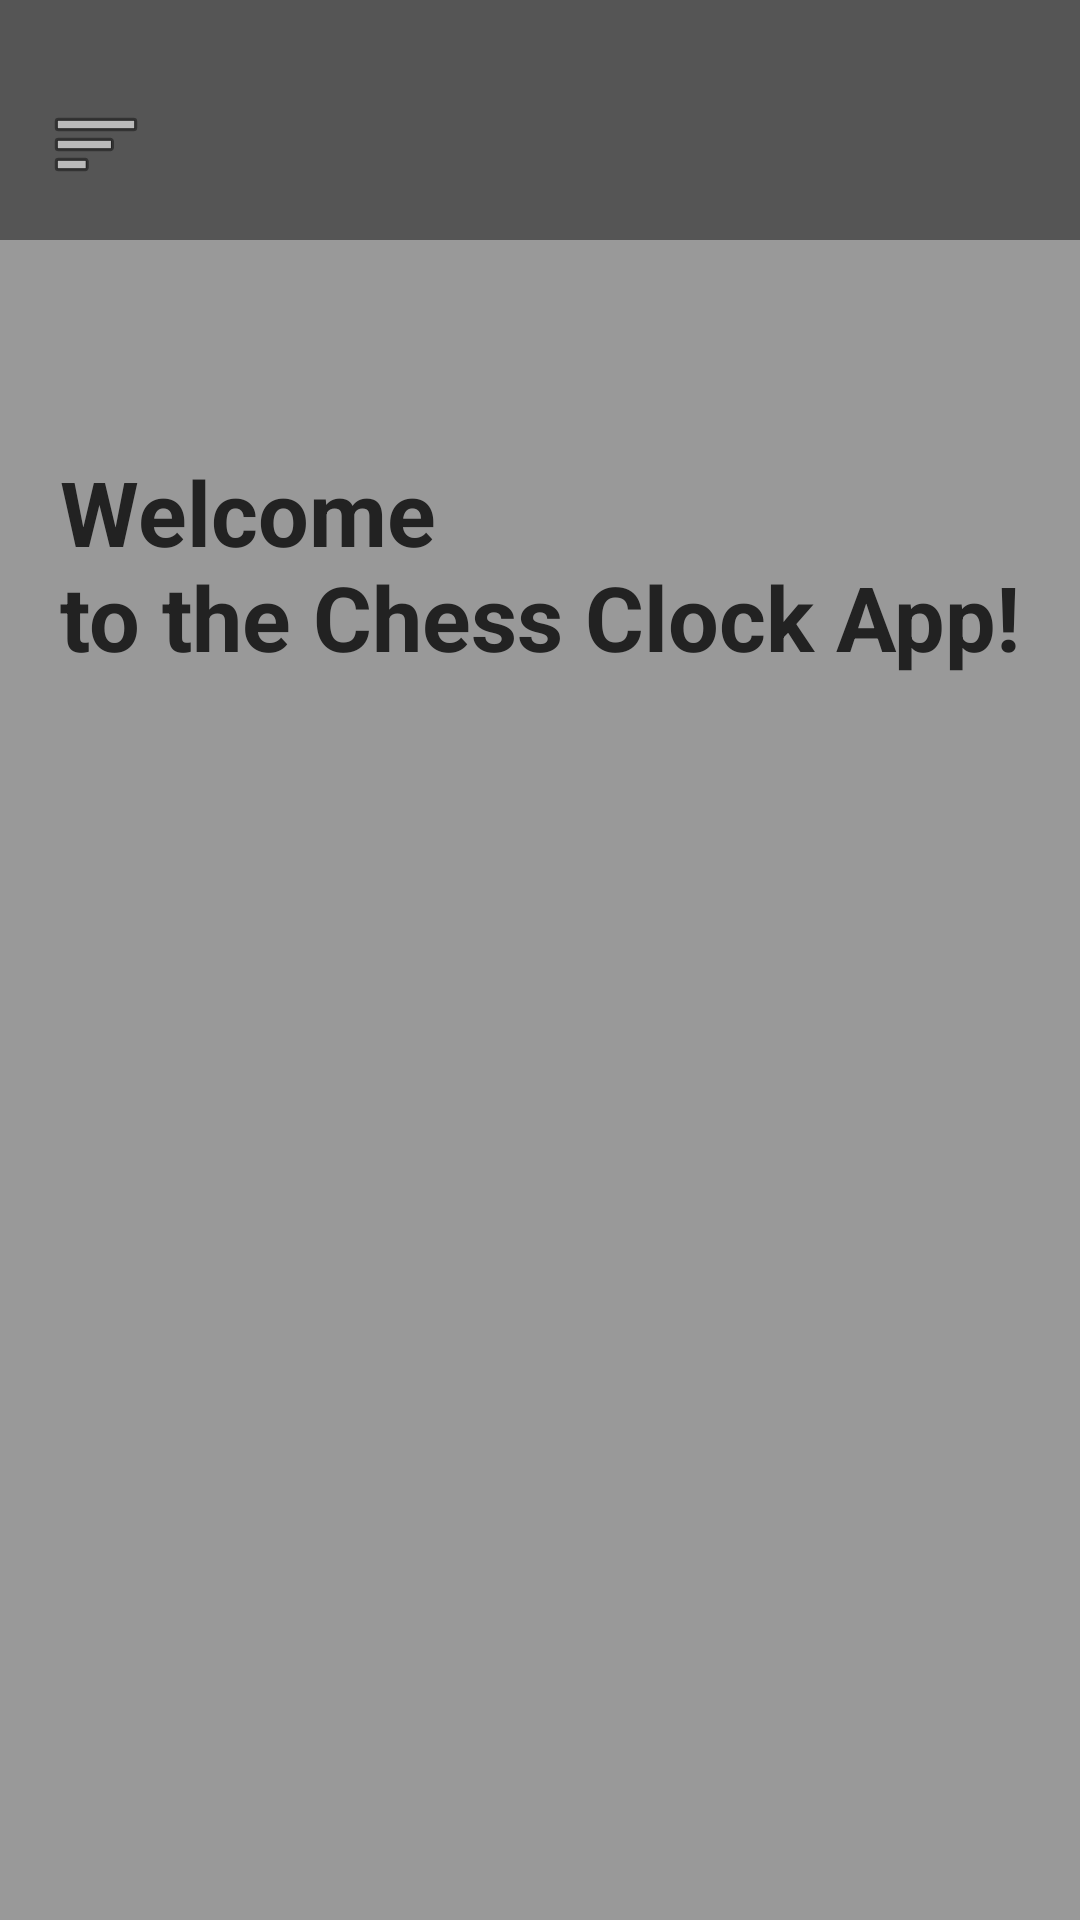

Icon bounding boxes for this 1080 x 1920 phone screenshot, format (x1, y1, x2, y2):
Menu: (55, 118, 137, 171)
